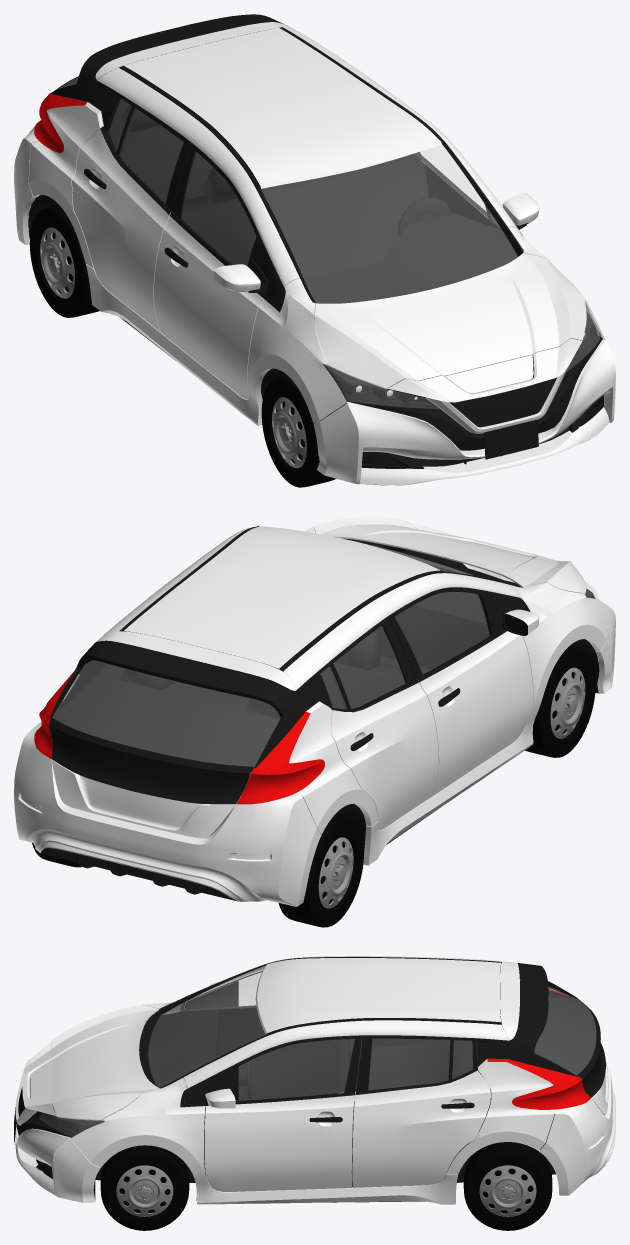
The model's file is leaf-2022.glb.
3 renders of one model, top to bottom at view 1: azimuth 30°, elevation 25°; view 2: azimuth 150°, elevation 25°; view 3: azimuth 270°, elevation 25°, orthographic. The views are drawn at different scales.
Visible parts, largest first — view 1: body (×2), model_3_0, model_0_0_0_0_0_0_0_0_0_0_0_0_0_0_0_0_0_0_0_0_0_0_0, roof, hood, model_0_0_0_0_0_0_0_1, model_0_0_0_0_0_0_0_0_0_0_0_0_0_0_0_0_1, model_0_0_0_0_0_0_0_0_0_0_0_0_0_0_0_0_0_0_1, model_0_0_0_0_1, model_0_0_0_0_0_0_0_0_0_0_0_0_0_0_1, model_0_0_0_0_0_0_0_0_0_0_0_0_0_0_0_0_0_0_0_0_0_1_0_0_0, model_3_1 (+6 smaller); view 2: body (×2), model_0_0_0_0_0_0_0_0_0_0_0_0_0_0_0_0_0_0_0_0_0_0_0, roof, model_3_0, model_0_0_0_0_0_0_0_0_0_0_0_0_0_0_1, model_0_0_0_0_0_0_0_1, hood, model_0_0_0_0_0_0_0_0_0_0_0_0_0_0_0_0_1, model_0_0_0_0_0_0_0_0_0_0_0_0_0_0_0_0_0_0_1, model_0_0_0_0_0_0_0_0_0_0_0_0_0_1_0_0_0, model_0_0_0_0_0_0_0_0_0_0_1, model_0_0_0_0_0_0_0_0_0_1 (+3 smaller); view 3: body (×2), model_0_0_0_0_0_0_0_0_0_0_0_0_0_0_0_0_0_0_0_0_0_0_0, model_3_0, roof, hood, model_0_0_0_0_0_0_0_1, model_0_0_0_0_0_0_0_0_0_0_0_0_0_0_0_0_0_1, model_0_0_0_0_0_0_0_0_0_0_0_0_0_0_0_0_0_0_1, model_0_0_0_0_0_0_0_0_0_0_0_0_0_0_1, model_0_0_0_0_0_0_0_0_0_0_0_0_1_0, model_0_0_0_0_0_0_0_0_0_0_0_0_0_0_0_0_1, model_0_0_0_0_0_0_0_0_0_0_0_0_0_0_0_1 (+4 smaller).
Part boxes in pixels (<box>): body (×2): <box>14,27,615,485</box>; model_3_0: <box>59,78,599,408</box>; model_0_0_0_0_0_0_0_0_0_0_0_0_0_0_0_0_0_0_0_0_0_0_0: <box>61,22,528,318</box>; roof: <box>95,22,441,188</box>; hood: <box>314,253,586,402</box>; model_0_0_0_0_0_0_0_1: <box>29,204,336,487</box>; model_0_0_0_0_0_0_0_0_0_0_0_0_0_0_0_0_1: <box>100,92,285,312</box>; model_0_0_0_0_0_0_0_0_0_0_0_0_0_0_0_0_0_0_1: <box>40,227,306,468</box>; model_0_0_0_0_1: <box>345,335,602,449</box>; model_0_0_0_0_0_0_0_0_0_0_0_0_0_0_1: <box>50,14,284,99</box>; model_0_0_0_0_0_0_0_0_0_0_0_0_0_0_0_0_0_0_0_0_0_1_0_0_0: <box>323,311,598,459</box>; model_3_1: <box>450,377,556,427</box>; body (×2): <box>14,526,615,906</box>; model_0_0_0_0_0_0_0_0_0_0_0_0_0_0_0_0_0_0_0_0_0_0_0: <box>49,526,527,766</box>; roof: <box>96,526,440,690</box>; model_3_0: <box>52,544,598,766</box>; model_0_0_0_0_0_0_0_0_0_0_0_0_0_0_1: <box>49,641,295,804</box>; model_0_0_0_0_0_0_0_1: <box>32,645,595,927</box>; hood: <box>314,516,586,594</box>; model_0_0_0_0_0_0_0_0_0_0_0_0_0_0_0_0_1: <box>317,587,530,712</box>; model_0_0_0_0_0_0_0_0_0_0_0_0_0_0_0_0_0_0_1: <box>318,667,585,908</box>; model_0_0_0_0_0_0_0_0_0_0_0_0_0_1_0_0_0: <box>236,711,324,804</box>; model_0_0_0_0_0_0_0_0_0_0_1: <box>73,853,201,894</box>; model_0_0_0_0_0_0_0_0_0_1: <box>242,639,599,852</box>; body (×2): <box>15,956,615,1204</box>; model_0_0_0_0_0_0_0_0_0_0_0_0_0_0_0_0_0_0_0_0_0_0_0: <box>139,957,594,1122</box>; model_3_0: <box>39,966,595,1136</box>; roof: <box>255,958,519,1040</box>; hood: <box>22,1004,158,1120</box>; model_0_0_0_0_0_0_0_1: <box>100,1142,552,1230</box>; model_0_0_0_0_0_0_0_0_0_0_0_0_0_0_0_0_0_1: <box>180,1035,477,1107</box>; model_0_0_0_0_0_0_0_0_0_0_0_0_0_0_0_0_0_0_1: <box>116,1165,536,1216</box>; model_0_0_0_0_0_0_0_0_0_0_0_0_0_0_1: <box>510,963,606,1097</box>; model_0_0_0_0_0_0_0_0_0_0_0_0_1_0: <box>487,1058,590,1109</box>; model_0_0_0_0_0_0_0_0_0_0_0_0_0_0_0_0_1: <box>180,971,262,1011</box>; model_0_0_0_0_0_0_0_0_0_0_0_0_0_0_0_1: <box>476,1038,525,1066</box>.
Size of the model in its own units: 1.92 by 1.43 by 4.07.
